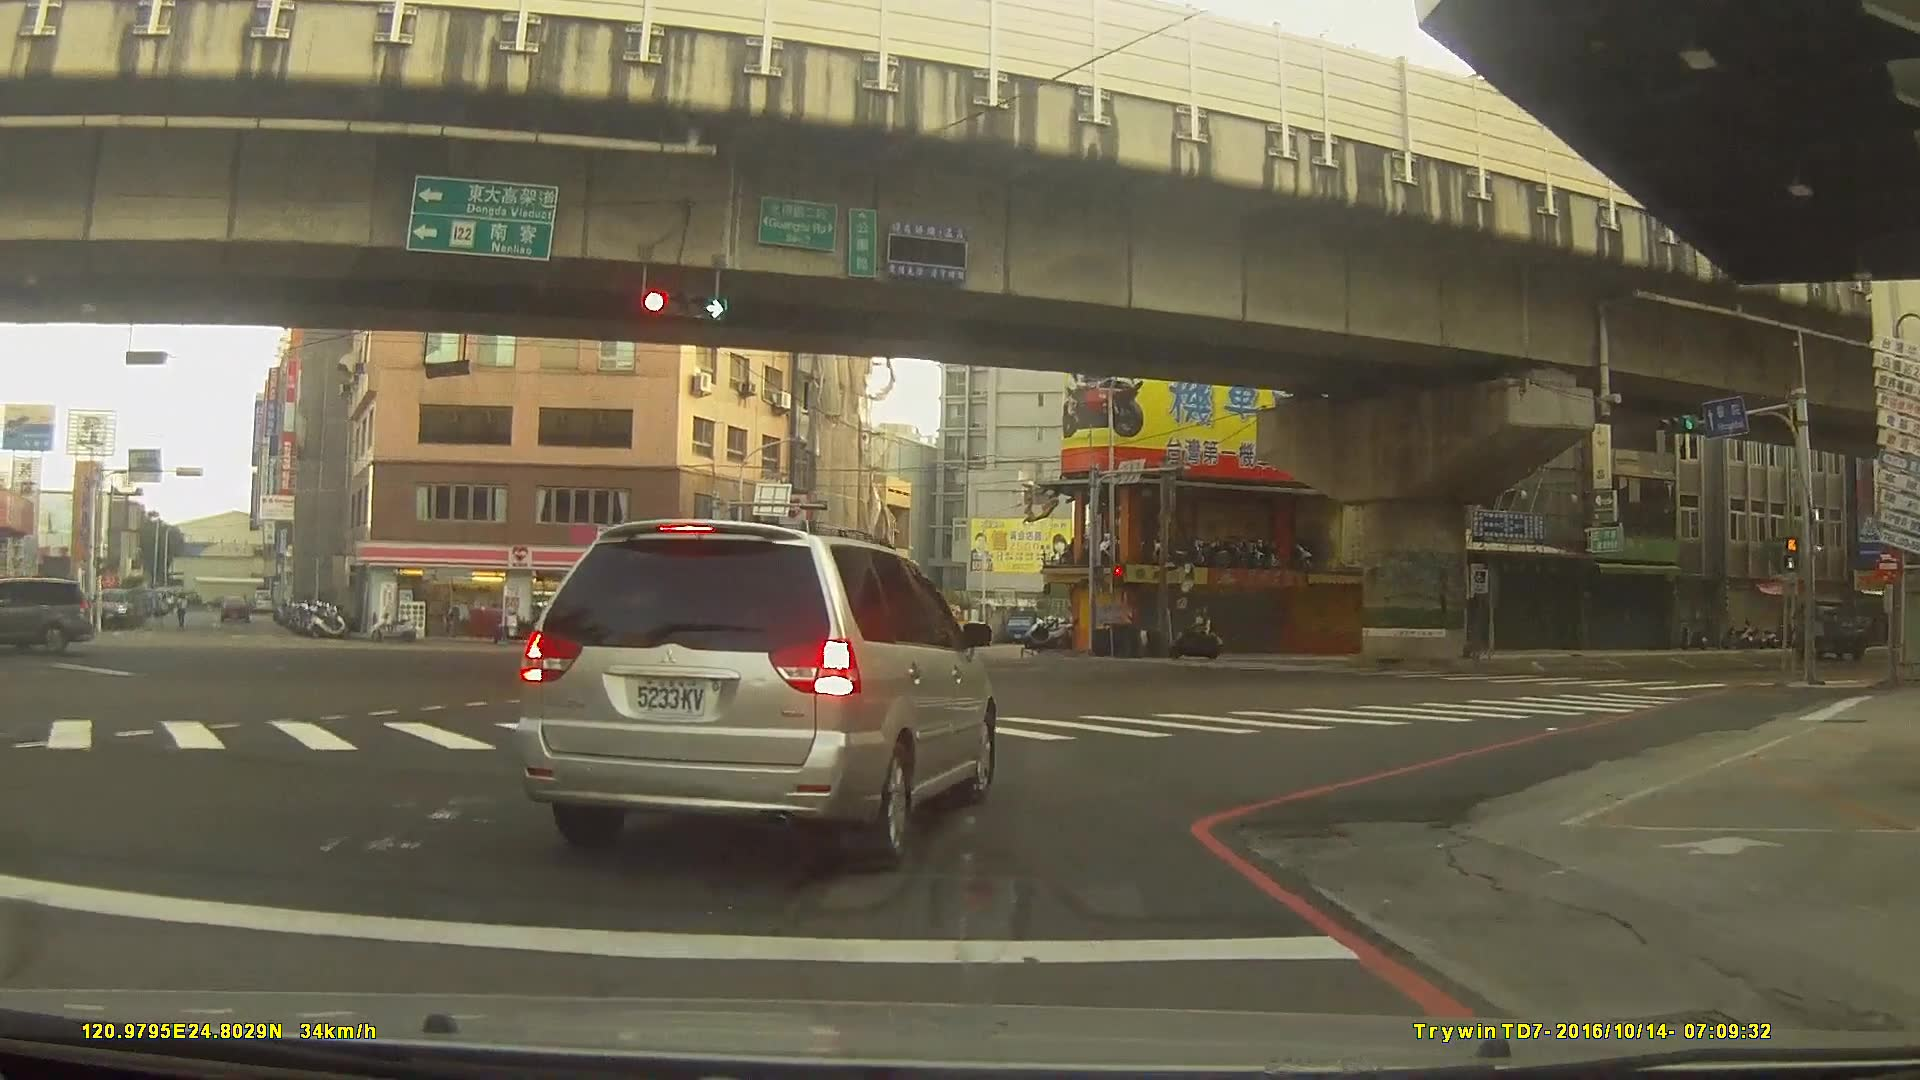rider: (1167, 603, 1223, 659)
vehicle: (511, 516, 999, 867), (0, 574, 95, 653), (1788, 594, 1868, 658), (864, 621, 930, 659), (88, 587, 131, 632), (543, 606, 605, 633), (214, 593, 249, 623)
